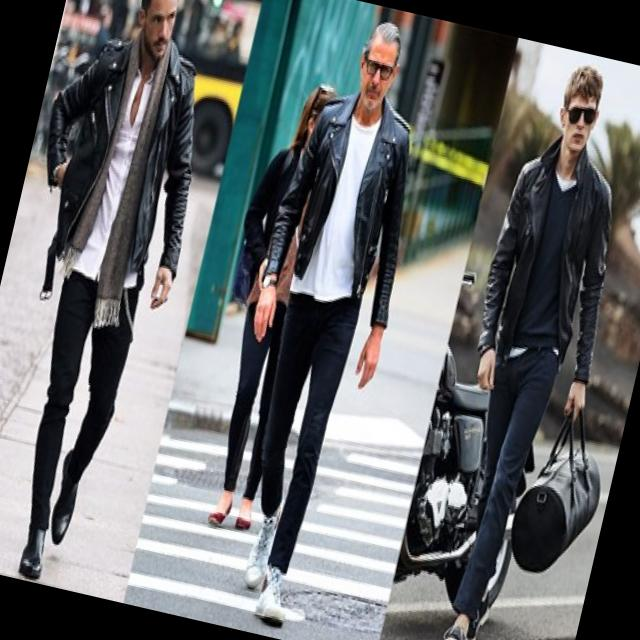Jacket: (9, 20, 228, 312), (453, 129, 640, 435), (256, 83, 438, 338)
